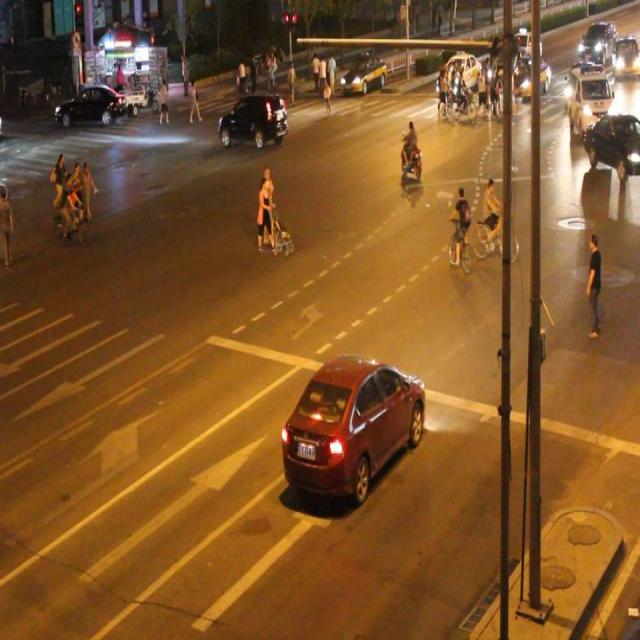car: (280, 351, 424, 501), (219, 92, 288, 146), (583, 112, 640, 176), (566, 65, 612, 134)
